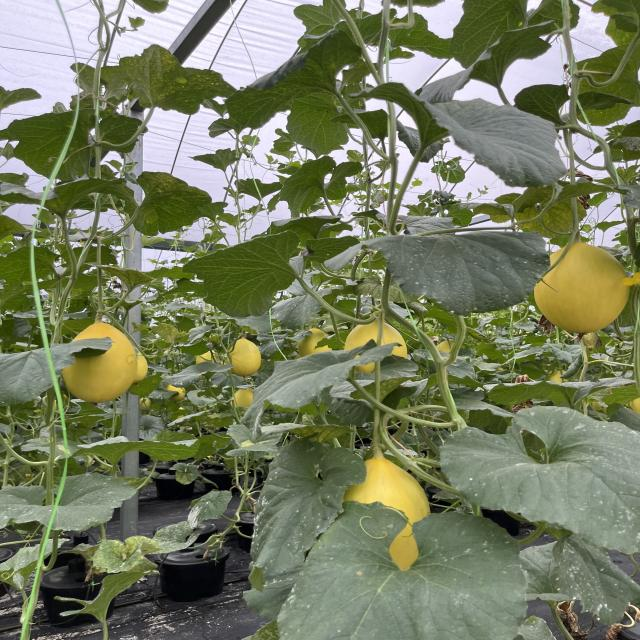downy mildew: (429, 402, 640, 559)
healthy: (178, 230, 308, 322)
powdery mildew: (274, 499, 530, 640)
